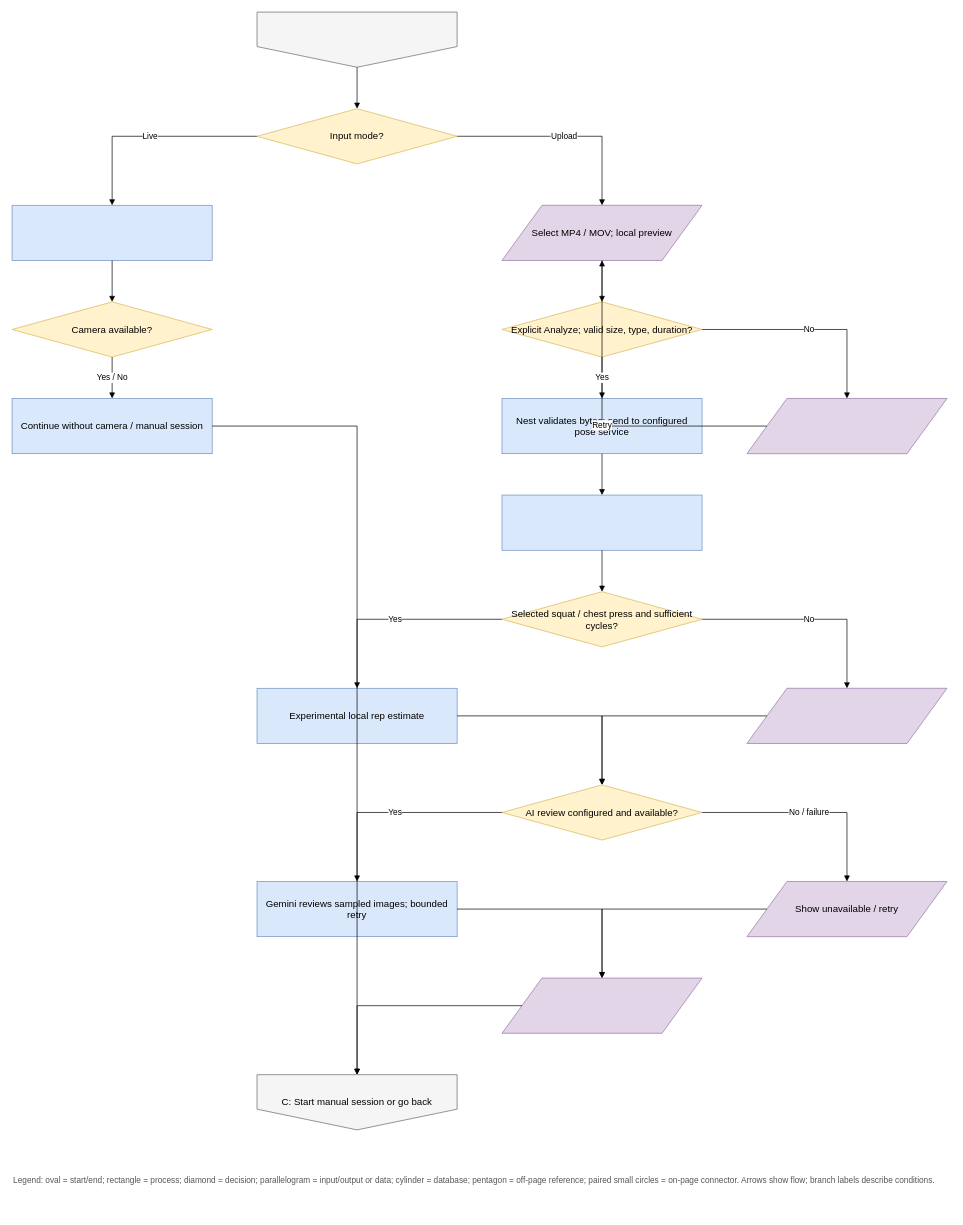
This 963x1225 diagram has some shape labels left out. Each missing label, with the centre of its shape:
"C1: Prepare" goes at pixel 356 39.
"Live camera: permission and local readiness checks" goes at pixel 111 232.
"MediaPipe: sample frames, landmarks and joint angles" goes at pixel 601 522.
"No reliable local rep count" goes at pixel 846 715.
"Show error / choose another video" goes at pixel 846 426.
"Show recording report; no verified form score" goes at pixel 601 1005.
